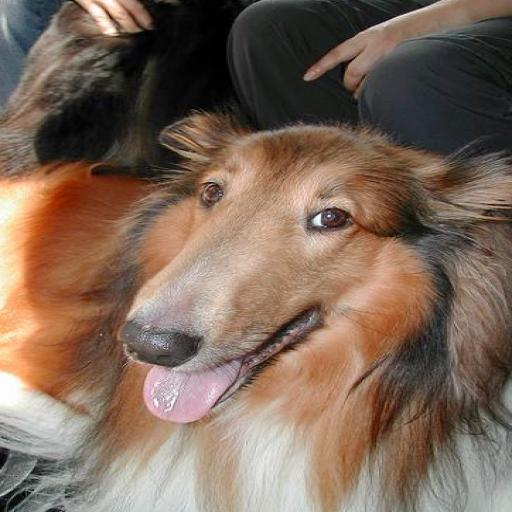dog_face: (102, 113, 499, 418)
